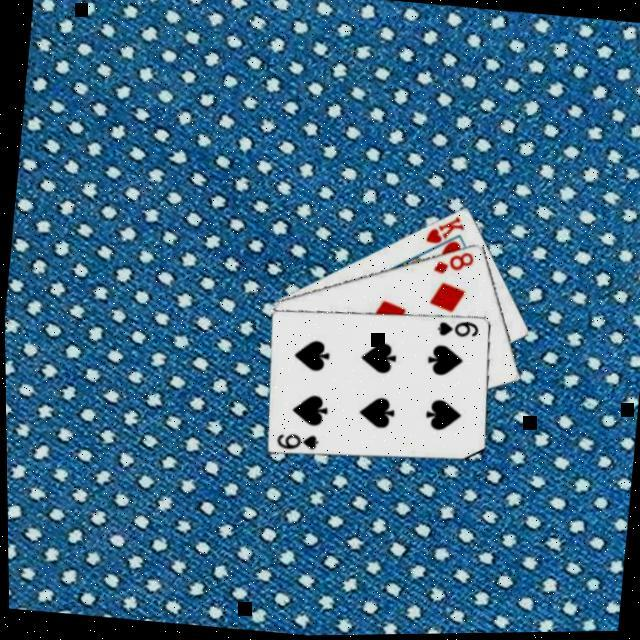6S: (429, 317, 478, 345), (269, 430, 317, 456)
8D: (425, 247, 474, 283)
KH: (419, 213, 465, 252)
